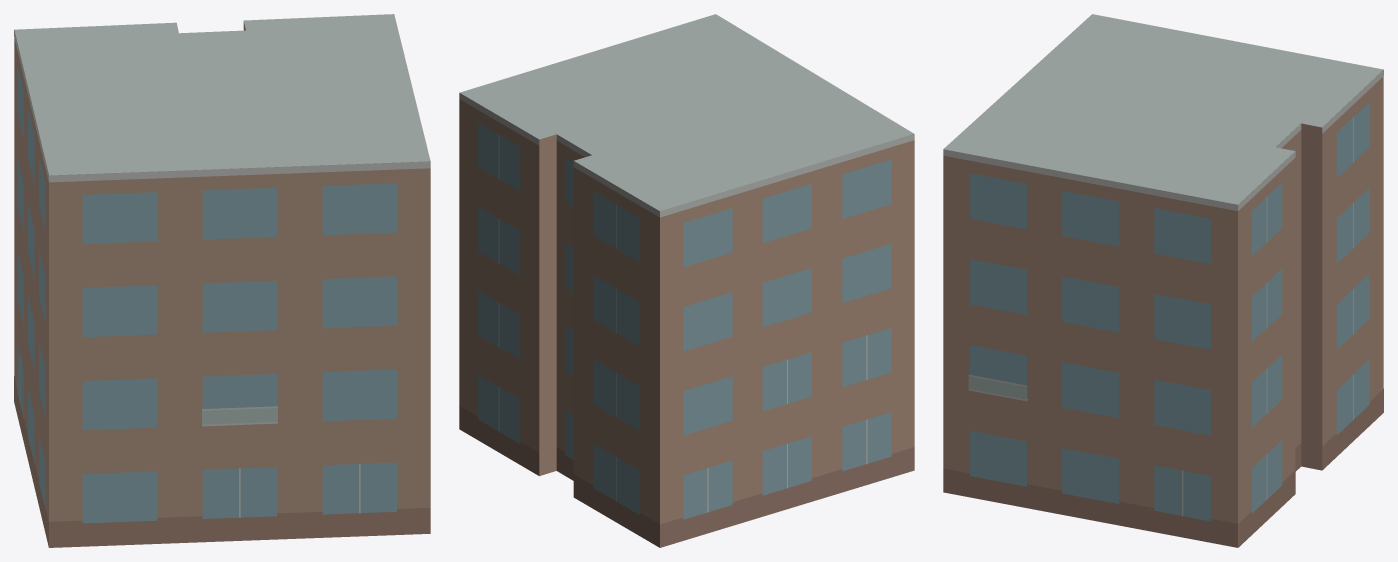
File: survey-upis-33042501.glb
3 renders of one model, left to right at view 1: azimuth 30°, elevation 25°; view 2: azimuth 150°, elevation 25°; view 3: azimuth 270°, elevation 25°, orthographic. The views are drawn at different scales.
Visible parts, largest first — view 1: survey-upis-33042501.tmp; view 2: survey-upis-33042501.tmp; view 3: survey-upis-33042501.tmp.
Boxes of the visible parts, bbox=[...] form: survey-upis-33042501.tmp: bbox=[14, 14, 430, 547]; survey-upis-33042501.tmp: bbox=[459, 14, 914, 547]; survey-upis-33042501.tmp: bbox=[943, 14, 1383, 547].
Size of the model in its own units: 15.63 by 13.1 by 15.26.
